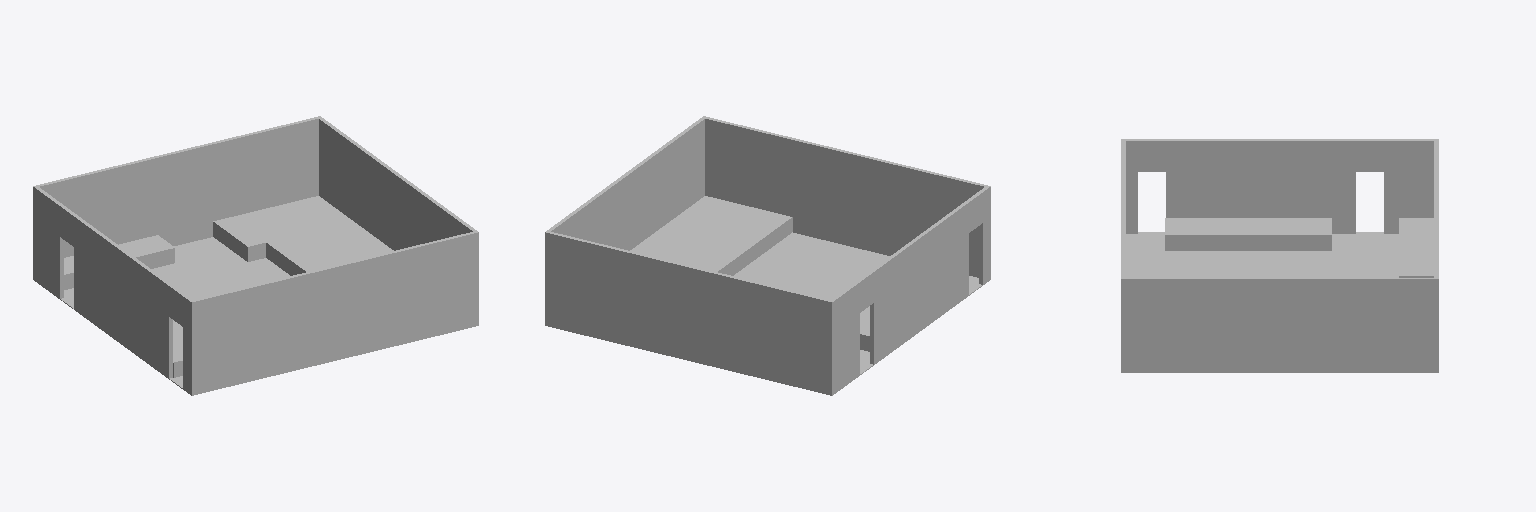
File: shopee.obj
The picture shows the model from 3 angles: view 1: azimuth 30°, elevation 25°; view 2: azimuth 150°, elevation 25°; view 3: azimuth 270°, elevation 25°; orthographic projection.
Parts seen in each view (by area): view 1: shopee; view 2: shopee; view 3: shopee.
Boxes of the visible parts, x1,y1,x2,y2 form: shopee: [33, 116, 478, 395]; shopee: [545, 116, 990, 395]; shopee: [1121, 139, 1438, 372].
Size of the model in its own units: 9.75 by 3.03 by 9.33.